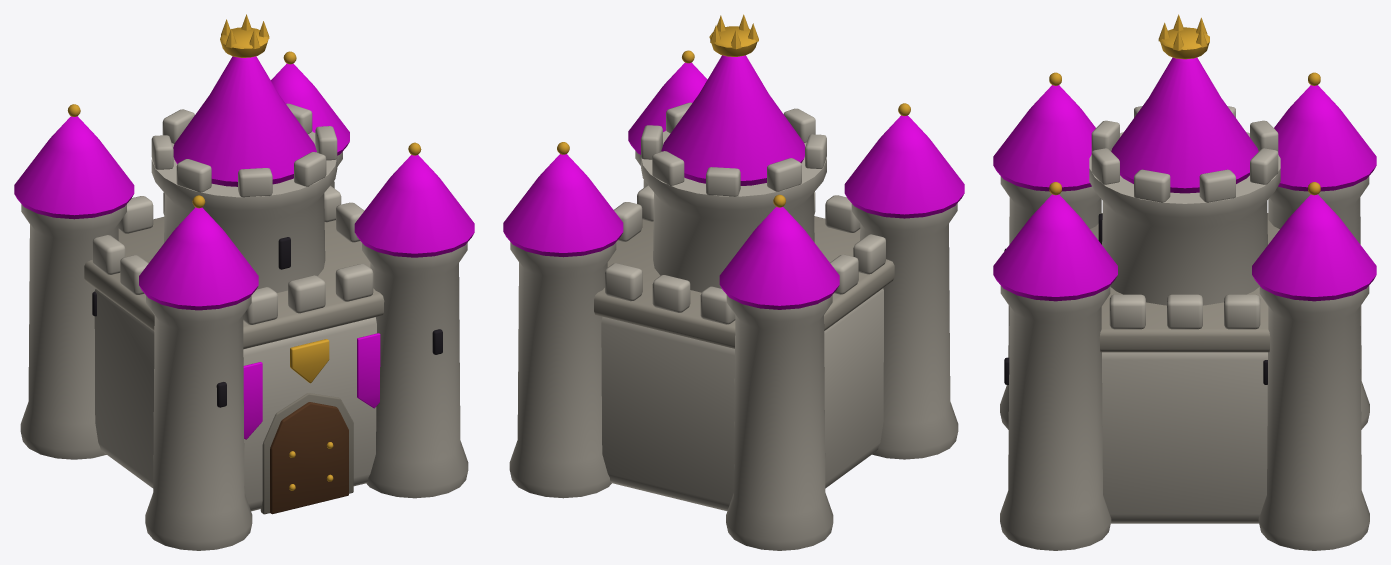
File: castelo.glb
3 views of the same model, side by side, from view 1: azimuth 30°, elevation 25°; view 2: azimuth 150°, elevation 25°; view 3: azimuth 270°, elevation 25° (orthographic). The views are drawn at different scales.
Parts seen in each view (by area): view 1: corpo; view 2: corpo; view 3: corpo.
Boxes of the visible parts, box(x1,y1,x2,y2) form: corpo: box(14, 14, 474, 550); corpo: box(503, 14, 964, 550); corpo: box(993, 14, 1376, 550).
Size of the model in its own units: 4.4 by 5.69 by 4.38.
